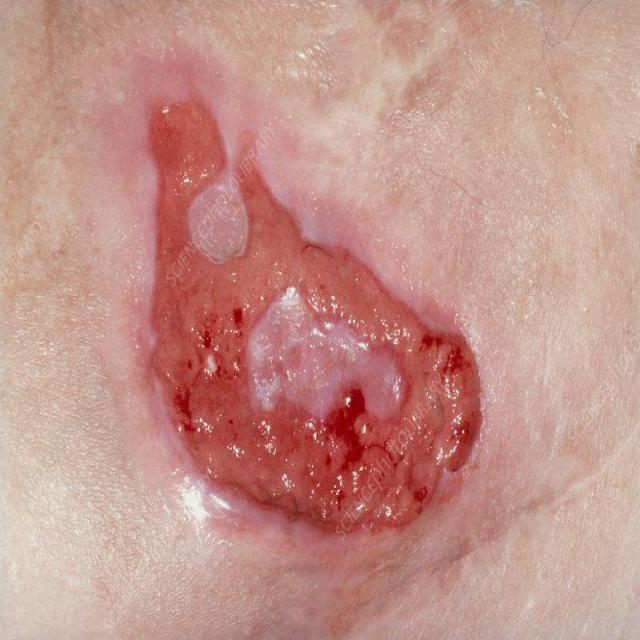stage-3: (150, 101, 480, 532)
